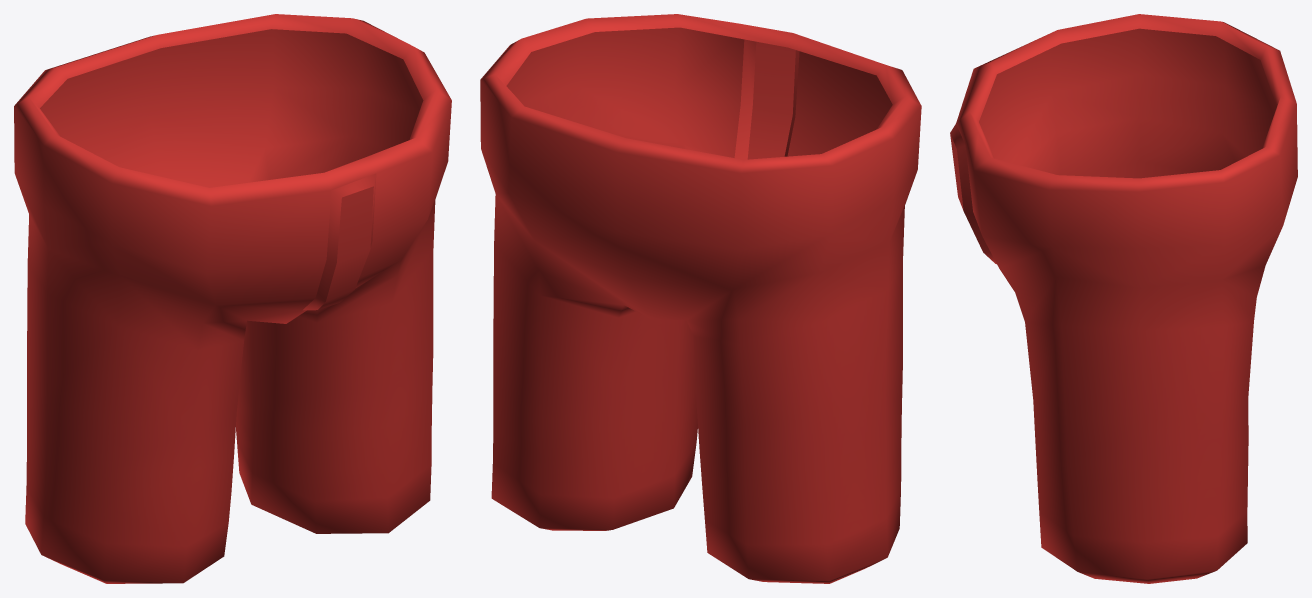
Rendered from Bottom_23.fbx.
3 renders of one model, left to right at view 1: azimuth 30°, elevation 25°; view 2: azimuth 150°, elevation 25°; view 3: azimuth 270°, elevation 25°, orthographic. The views are drawn at different scales.
Parts seen in each view (by area): view 1: Bottom_23; view 2: Bottom_23; view 3: Bottom_23.
Boxes of the visible parts, x1,y1,x2,y2 form: Bottom_23: [14, 14, 451, 583]; Bottom_23: [480, 14, 921, 583]; Bottom_23: [950, 14, 1297, 583].
Bounding box in the file's own units: 37.99 × 42.06 × 31.97.
